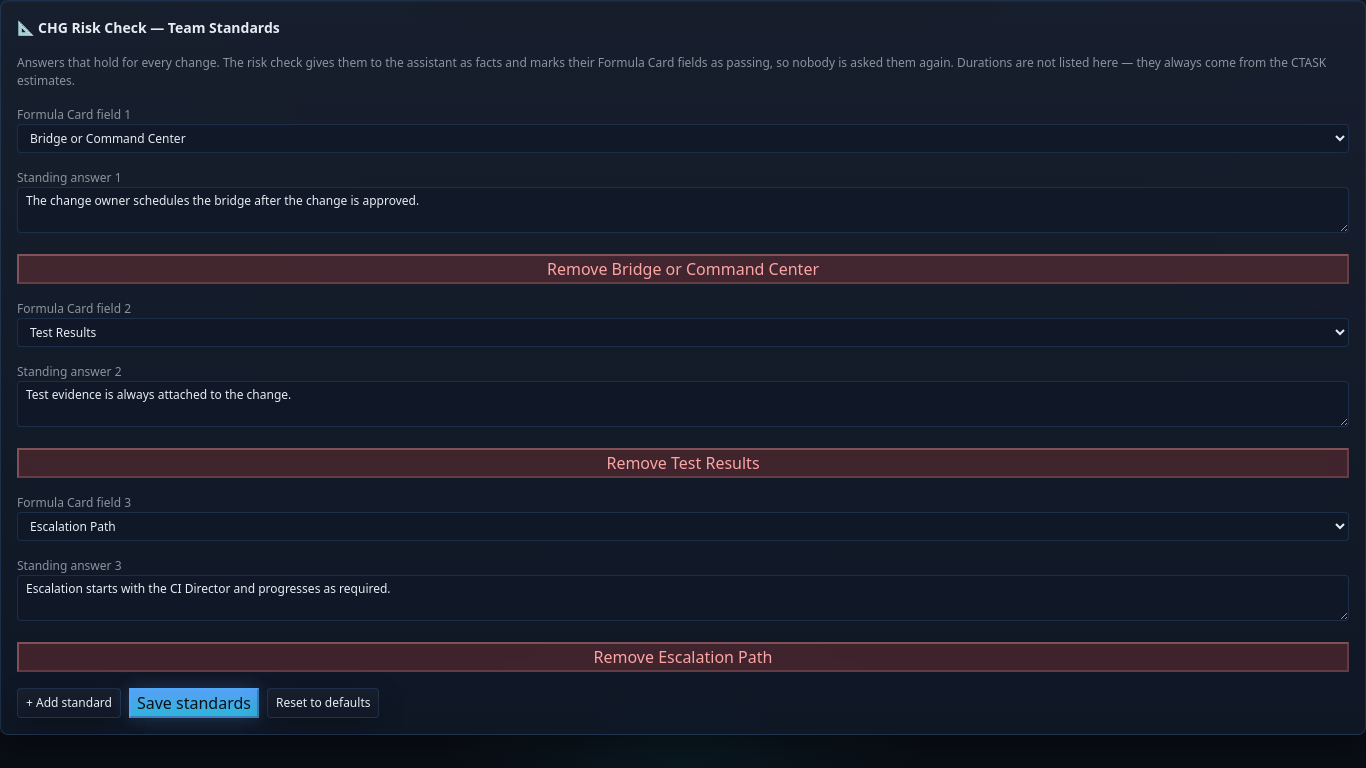
Test: ChgTeamStandardsPanel › goes back to the defaults on Reset
Click the button "Remove Bridge or Command Center" at (683, 269), box [17,254,1349,284]
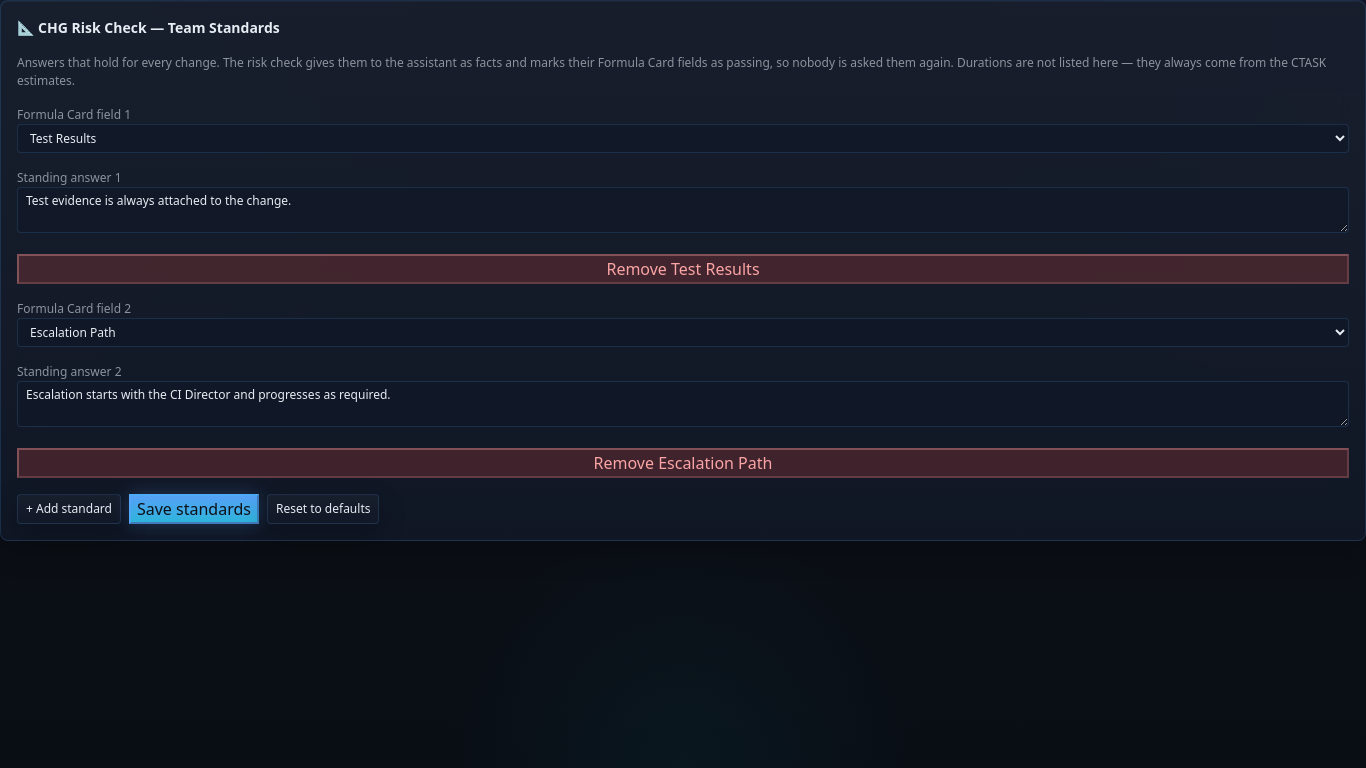
Click the button "Save standards" at (194, 509), box [129,494,259,524]
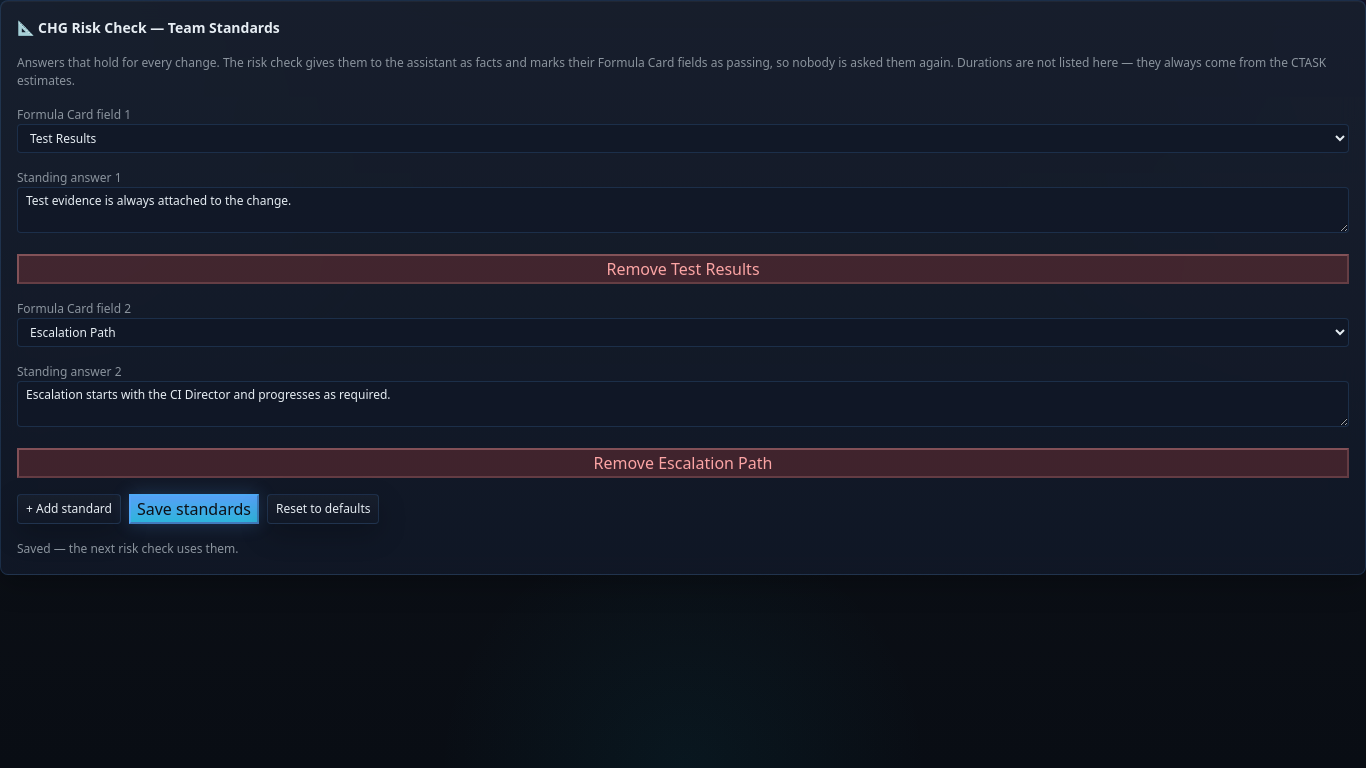
Click the button "Reset to defaults" at (323, 509), box [267,494,380,524]
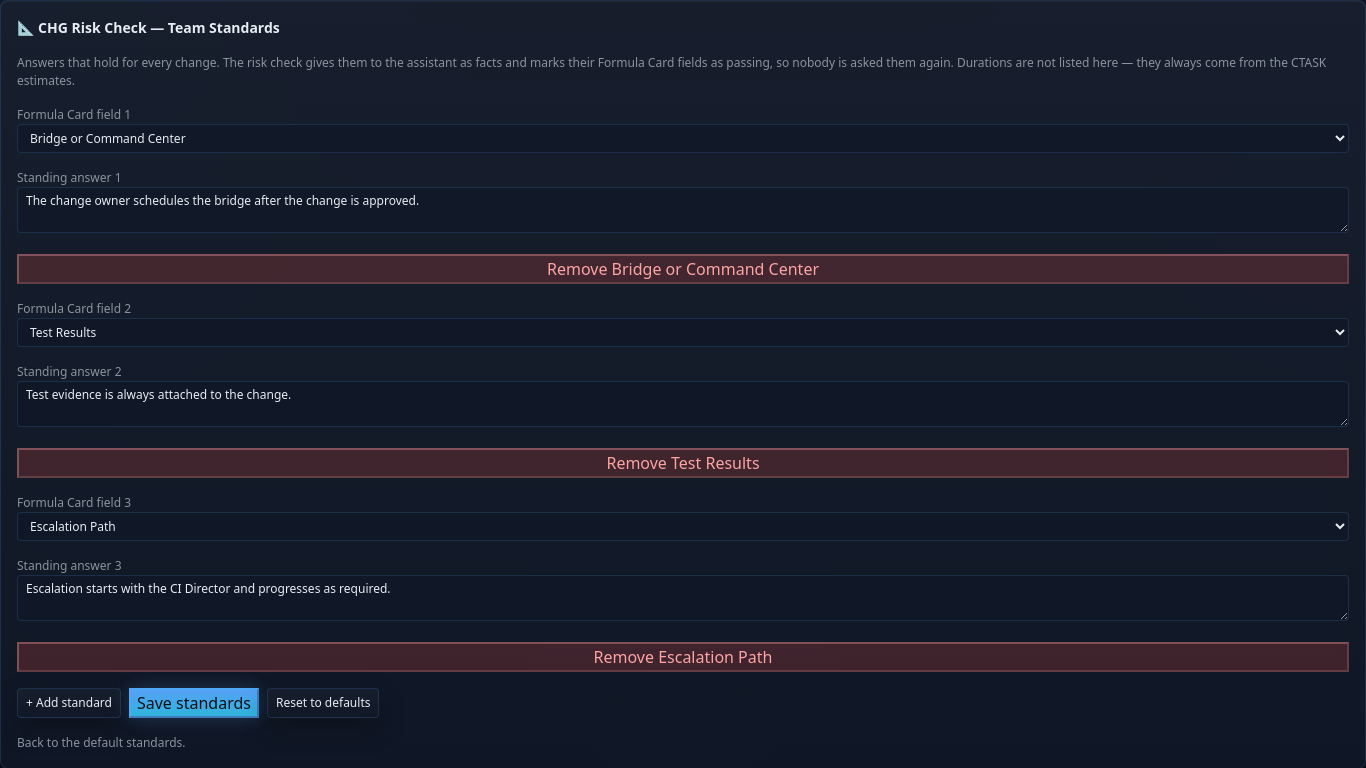
Expected: the number of dropdowns labelled "Formula Card field 1" is 3, [17,124,1349,153]; [17,318,1349,347]; [17,512,1349,541]
